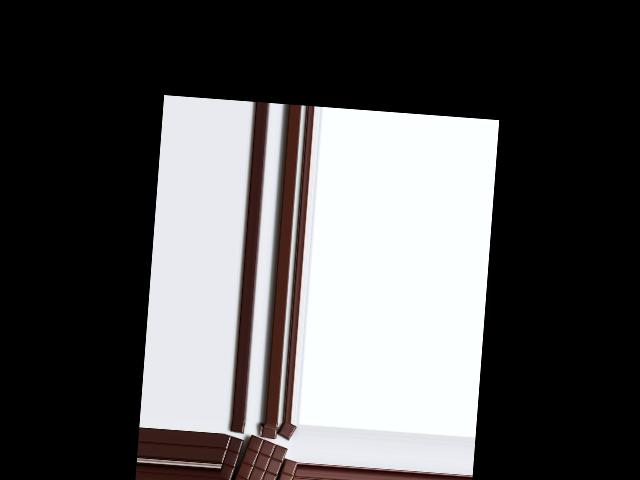chocolate: (229, 434, 289, 480)
